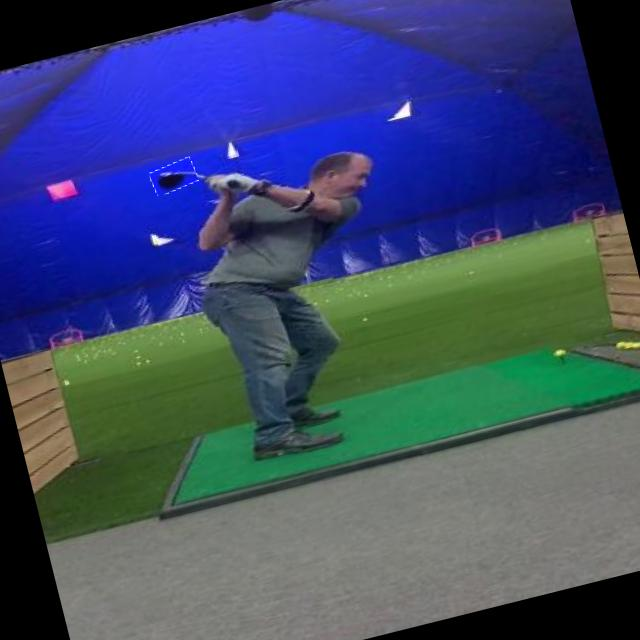club head: (148, 157, 199, 194)
